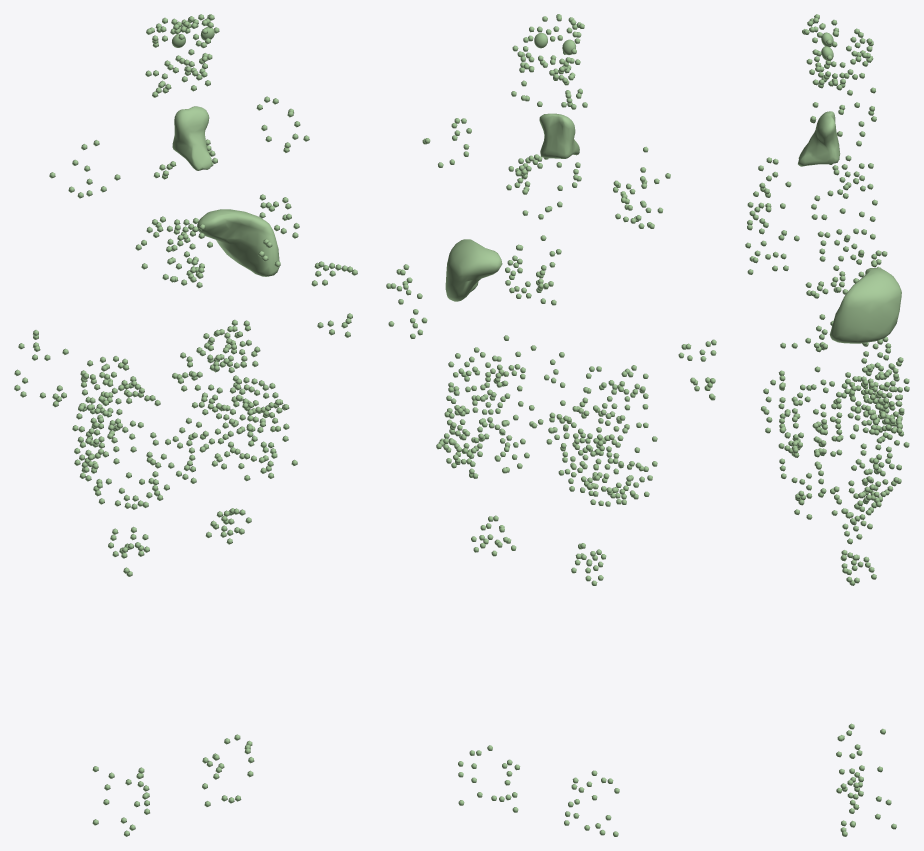
The model's file is pediatric_child_10y_female.lymphatic.LOD1.glb.
The picture shows the model from 3 angles, left to right: view 1: azimuth 30°, elevation 25°; view 2: azimuth 150°, elevation 25°; view 3: azimuth 270°, elevation 25°; orthographic projection. The views are drawn at different scales.
Visible parts, largest first — view 1: PEDIATRIC.CHILD_10Y.FEMALE.LYMPHATIC.LYMPHATIC_NODES_TRUNK, PEDIATRIC.CHILD_10Y.FEMALE.LYMPHATIC.SPLEEN, PEDIATRIC.CHILD_10Y.FEMALE.LYMPHATIC.THYMUS, PEDIATRIC.CHILD_10Y.FEMALE.LYMPHATIC.LYMPHATIC_NODES_ET, PEDIATRIC.CHILD_10Y.FEMALE.LYMPHATIC.LYMPHATIC_NODES_THORACI, PEDIATRIC.CHILD_10Y.FEMALE.LYMPHATIC.LYMPHATIC_NODES_ARMS, PEDIATRIC.CHILD_10Y.FEMALE.LYMPHATIC.LYMPHATIC_NODES_LEGS; view 2: PEDIATRIC.CHILD_10Y.FEMALE.LYMPHATIC.LYMPHATIC_NODES_TRUNK, PEDIATRIC.CHILD_10Y.FEMALE.LYMPHATIC.SPLEEN, PEDIATRIC.CHILD_10Y.FEMALE.LYMPHATIC.THYMUS, PEDIATRIC.CHILD_10Y.FEMALE.LYMPHATIC.LYMPHATIC_NODES_THORACI, PEDIATRIC.CHILD_10Y.FEMALE.LYMPHATIC.LYMPHATIC_NODES_ET, PEDIATRIC.CHILD_10Y.FEMALE.LYMPHATIC.LYMPHATIC_NODES_LEGS, PEDIATRIC.CHILD_10Y.FEMALE.LYMPHATIC.LYMPHATIC_NODES_ARMS; view 3: PEDIATRIC.CHILD_10Y.FEMALE.LYMPHATIC.LYMPHATIC_NODES_TRUNK, PEDIATRIC.CHILD_10Y.FEMALE.LYMPHATIC.SPLEEN, PEDIATRIC.CHILD_10Y.FEMALE.LYMPHATIC.THYMUS, PEDIATRIC.CHILD_10Y.FEMALE.LYMPHATIC.LYMPHATIC_NODES_ET, PEDIATRIC.CHILD_10Y.FEMALE.LYMPHATIC.LYMPHATIC_NODES_THORACI, PEDIATRIC.CHILD_10Y.FEMALE.LYMPHATIC.LYMPHATIC_NODES_ARMS, PEDIATRIC.CHILD_10Y.FEMALE.LYMPHATIC.LYMPHATIC_NODES_LEGS, PEDIATRIC.CHILD_10Y.FEMALE.LYMPHATIC.LYMPHATIC_NODES_HEAD.
Part boxes in pixels (bbox=[...]): PEDIATRIC.CHILD_10Y.FEMALE.LYMPHATIC.LYMPHATIC_NODES_TRUNK: bbox=[49, 96, 309, 576]; PEDIATRIC.CHILD_10Y.FEMALE.LYMPHATIC.SPLEEN: bbox=[197, 209, 279, 276]; PEDIATRIC.CHILD_10Y.FEMALE.LYMPHATIC.THYMUS: bbox=[172, 106, 212, 170]; PEDIATRIC.CHILD_10Y.FEMALE.LYMPHATIC.LYMPHATIC_NODES_ET: bbox=[146, 14, 219, 76]; PEDIATRIC.CHILD_10Y.FEMALE.LYMPHATIC.LYMPHATIC_NODES_THORACI: bbox=[141, 139, 217, 288]; PEDIATRIC.CHILD_10Y.FEMALE.LYMPHATIC.LYMPHATIC_NODES_ARMS: bbox=[14, 261, 357, 407]; PEDIATRIC.CHILD_10Y.FEMALE.LYMPHATIC.LYMPHATIC_NODES_LEGS: bbox=[92, 734, 254, 836]; PEDIATRIC.CHILD_10Y.FEMALE.LYMPHATIC.LYMPHATIC_NODES_TRUNK: bbox=[422, 118, 670, 585]; PEDIATRIC.CHILD_10Y.FEMALE.LYMPHATIC.SPLEEN: bbox=[445, 239, 502, 301]; PEDIATRIC.CHILD_10Y.FEMALE.LYMPHATIC.THYMUS: bbox=[539, 113, 579, 158]; PEDIATRIC.CHILD_10Y.FEMALE.LYMPHATIC.LYMPHATIC_NODES_THORACI: bbox=[505, 154, 581, 305]; PEDIATRIC.CHILD_10Y.FEMALE.LYMPHATIC.LYMPHATIC_NODES_ET: bbox=[512, 14, 584, 80]; PEDIATRIC.CHILD_10Y.FEMALE.LYMPHATIC.LYMPHATIC_NODES_LEGS: bbox=[458, 745, 619, 836]; PEDIATRIC.CHILD_10Y.FEMALE.LYMPHATIC.LYMPHATIC_NODES_ARMS: bbox=[386, 264, 716, 400]; PEDIATRIC.CHILD_10Y.FEMALE.LYMPHATIC.LYMPHATIC_NODES_TRUNK: bbox=[745, 80, 909, 585]; PEDIATRIC.CHILD_10Y.FEMALE.LYMPHATIC.SPLEEN: bbox=[829, 268, 901, 343]; PEDIATRIC.CHILD_10Y.FEMALE.LYMPHATIC.THYMUS: bbox=[798, 111, 840, 166]; PEDIATRIC.CHILD_10Y.FEMALE.LYMPHATIC.LYMPHATIC_NODES_ET: bbox=[802, 14, 873, 85]; PEDIATRIC.CHILD_10Y.FEMALE.LYMPHATIC.LYMPHATIC_NODES_THORACI: bbox=[822, 155, 887, 294]; PEDIATRIC.CHILD_10Y.FEMALE.LYMPHATIC.LYMPHATIC_NODES_ARMS: bbox=[805, 231, 858, 442]; PEDIATRIC.CHILD_10Y.FEMALE.LYMPHATIC.LYMPHATIC_NODES_LEGS: bbox=[836, 723, 896, 836]; PEDIATRIC.CHILD_10Y.FEMALE.LYMPHATIC.LYMPHATIC_NODES_HEAD: bbox=[812, 62, 875, 114].
Bounding box in the file's own units: 0.3952 × 0.9147 × 0.1716.
